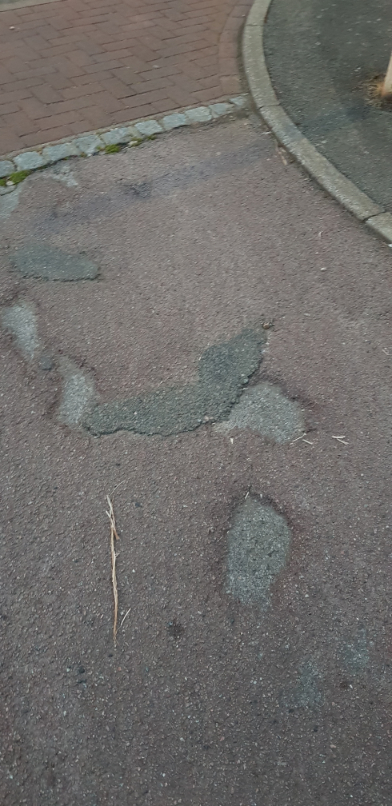pothole: (215, 482, 295, 614), (209, 374, 317, 451), (43, 350, 101, 441), (0, 284, 46, 377)
